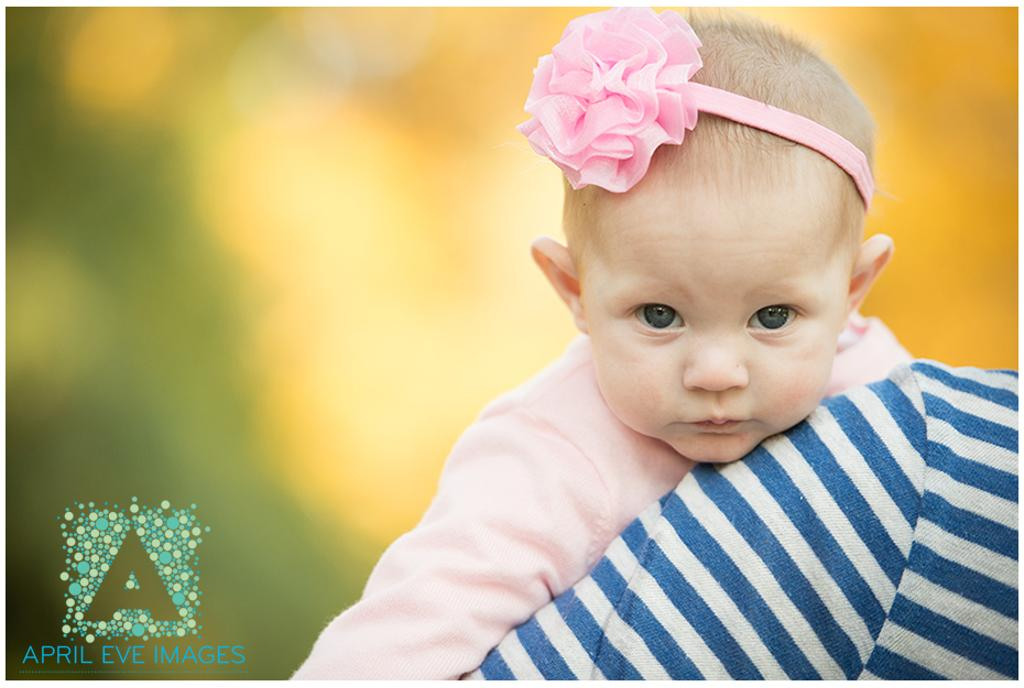face: (588, 202, 840, 466)
